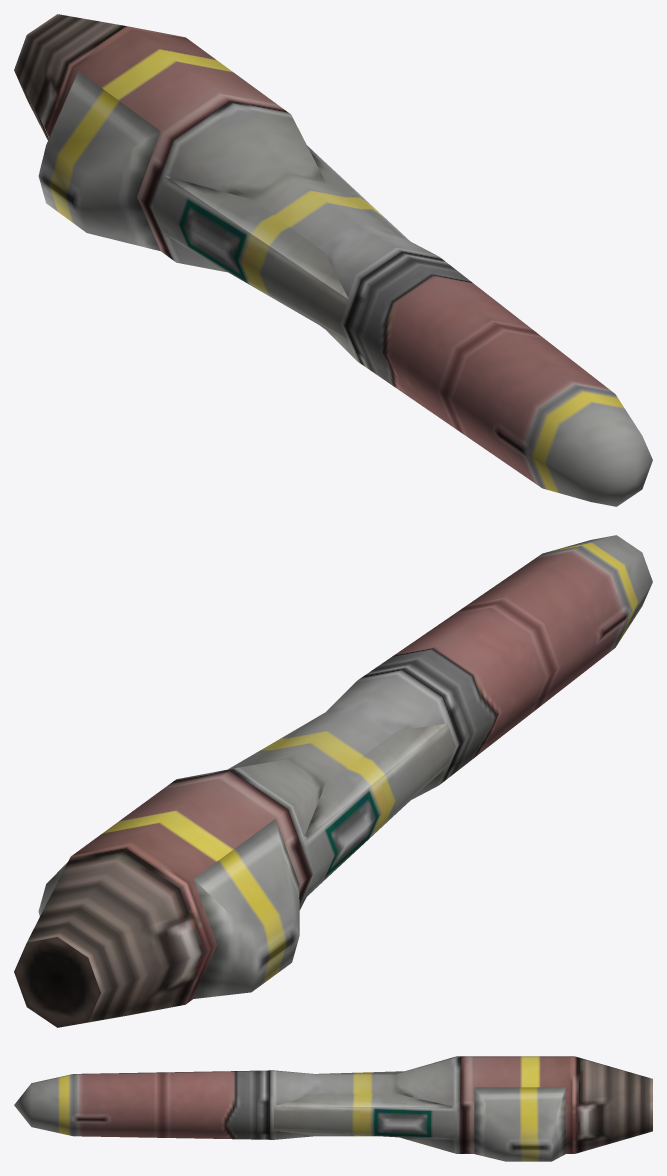
The model's file is Tan_Torpedo_Projectile_03.glb.
3 renders of one model, top to bottom at view 1: azimuth 30°, elevation 25°; view 2: azimuth 150°, elevation 25°; view 3: azimuth 270°, elevation 25°, orthographic. The views are drawn at different scales.
Visible parts, largest first — view 1: tan_torpedo_01_t3; view 2: tan_torpedo_01_t3; view 3: tan_torpedo_01_t3.
Boxes of the visible parts, x1,y1,x2,y2 form: tan_torpedo_01_t3: (14,14,652,506); tan_torpedo_01_t3: (14,535,652,1027); tan_torpedo_01_t3: (14,1056,652,1161).
Size of the model in its own units: 0.126 by 0.0927 by 0.5686.
1 material, 1 textured.
